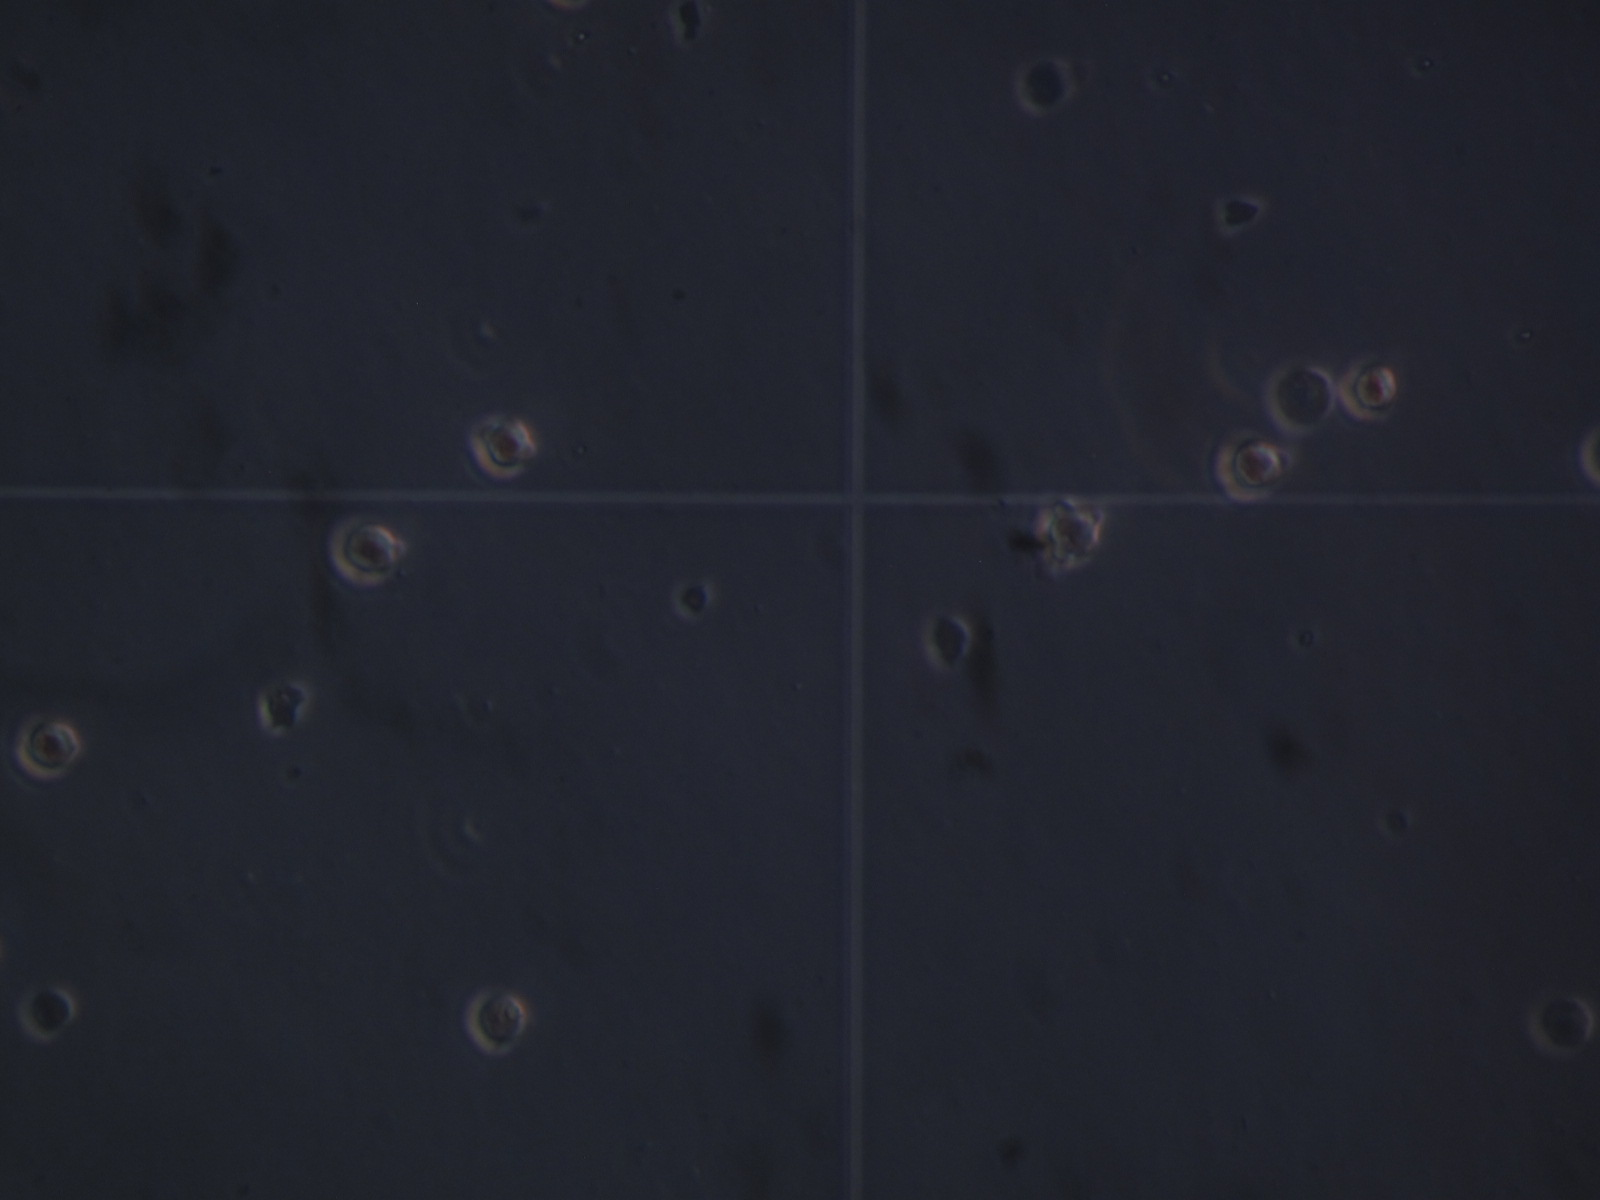hemo: (1269, 357, 1339, 437), (1212, 429, 1286, 502), (329, 513, 401, 587), (1524, 988, 1592, 1058), (1038, 500, 1102, 570), (467, 988, 530, 1053), (16, 716, 81, 778), (472, 413, 534, 478), (1340, 355, 1401, 421), (19, 979, 79, 1042), (1017, 53, 1076, 113), (920, 610, 974, 671)
